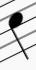note: (4, 3, 32, 62)
